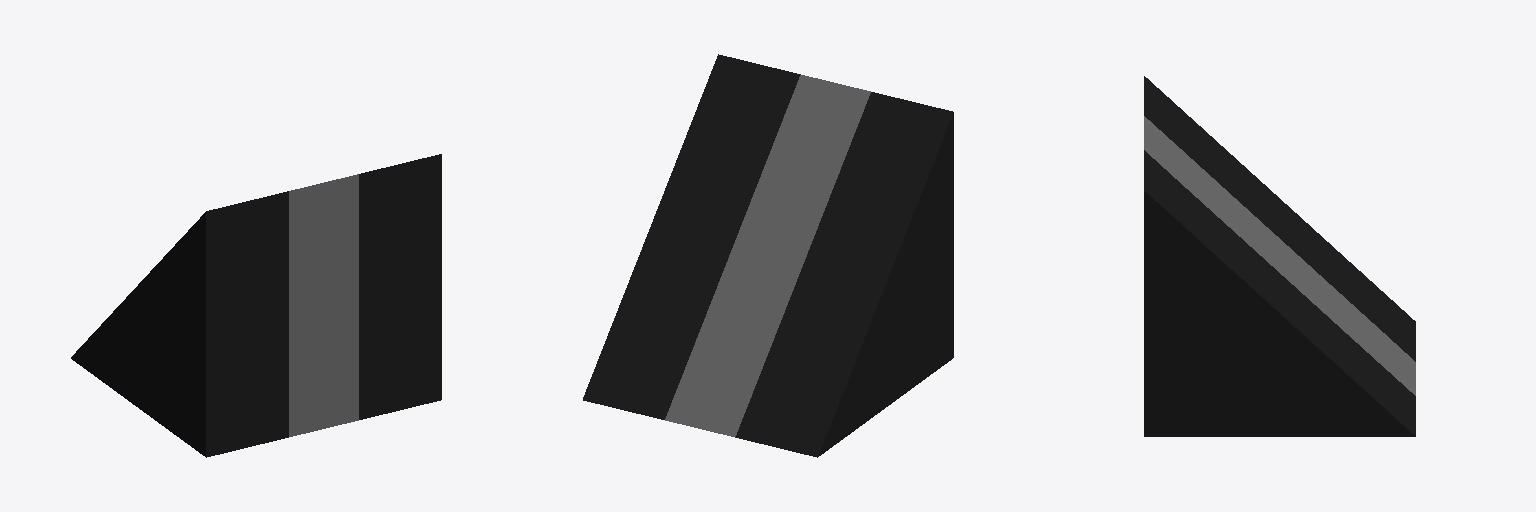
File: Ramp.obj
3 views of the same model, side by side, from view 1: azimuth 30°, elevation 25°; view 2: azimuth 150°, elevation 25°; view 3: azimuth 270°, elevation 25° (orthographic).
Parts seen in each view (by area): view 1: Cube.001; view 2: Cube.001; view 3: Cube.001.
Part boxes in pixels (bbox=[...]): Cube.001: bbox=[71, 154, 441, 457]; Cube.001: bbox=[583, 54, 953, 457]; Cube.001: bbox=[1144, 76, 1415, 436].
Size of the model in its own units: 1 by 1 by 1.